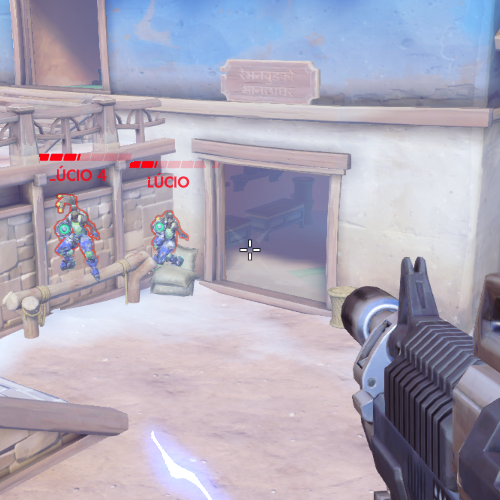hpbar: (38, 153, 132, 161), (129, 161, 221, 168)
